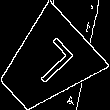L_SW: (18, 36, 75, 92)
